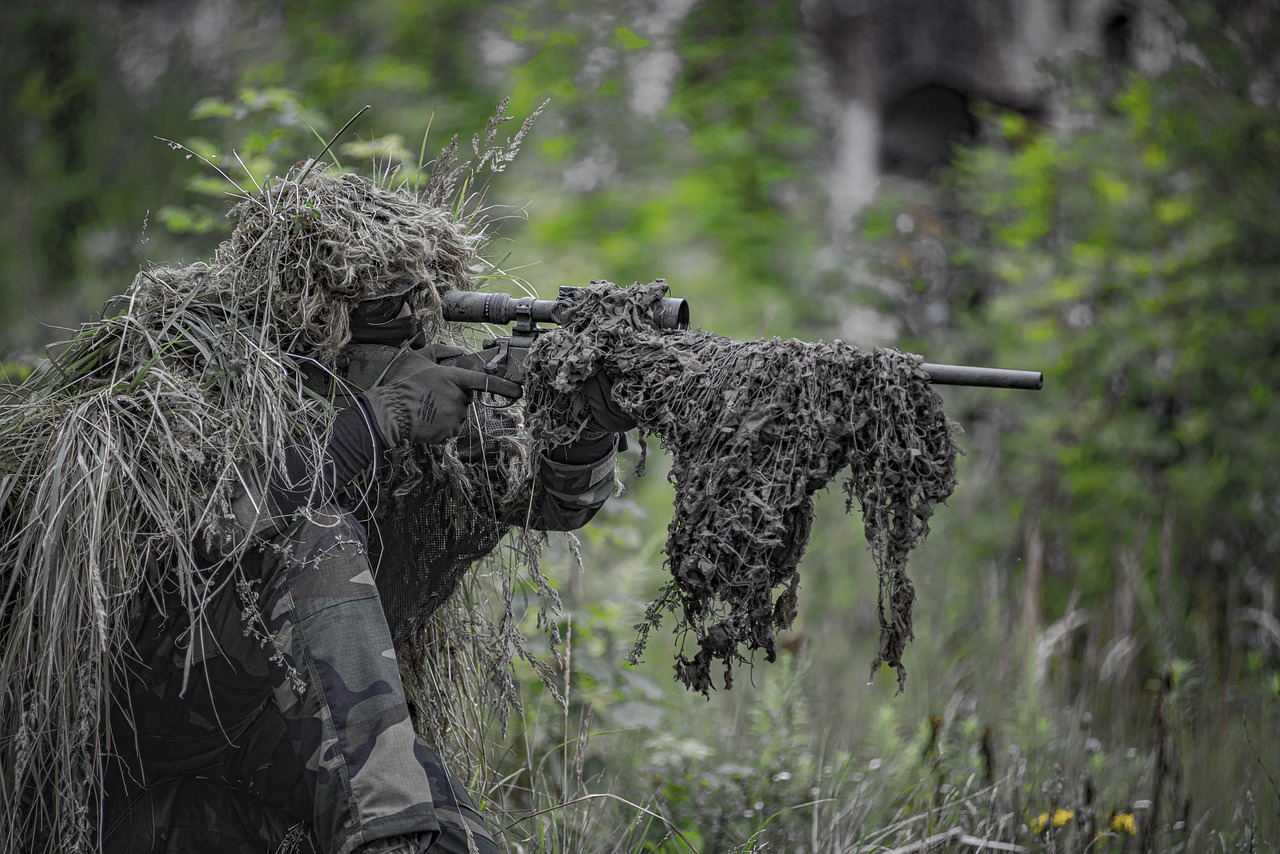gun: (293, 273, 1050, 420)
